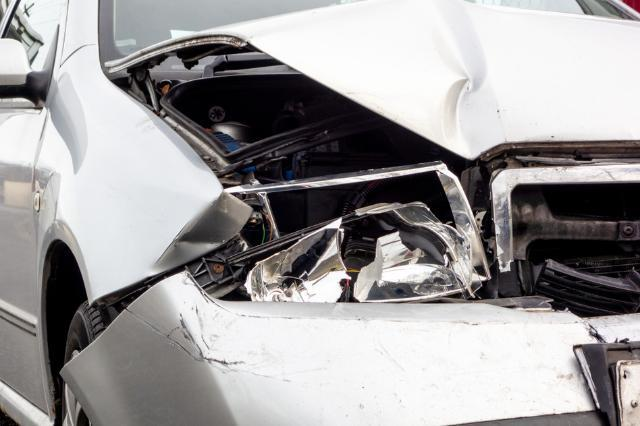Bonnet: (184, 0, 640, 162)
Bumper: (66, 274, 640, 426)
Fender: (123, 171, 241, 271)
Light: (211, 192, 478, 305)
